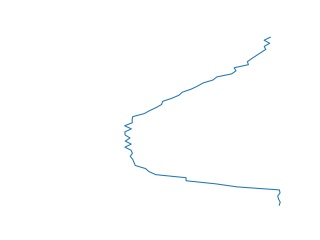underwaterDistributaryChannel: (120, 37, 285, 206)
